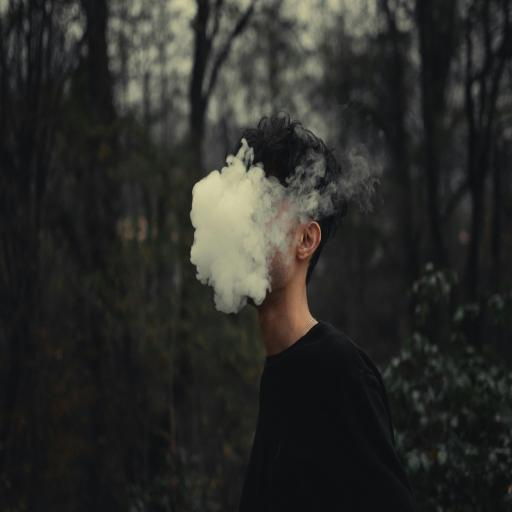smoke: (172, 167, 286, 320)
